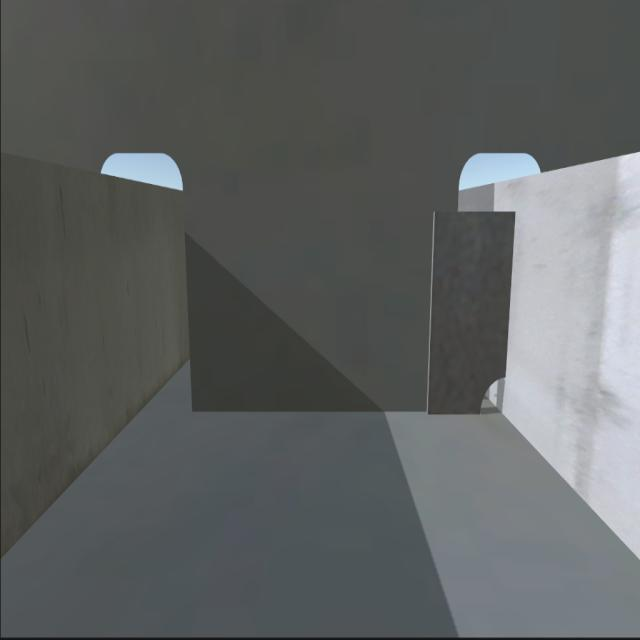fillet_hole: (478, 371, 508, 419)
fillet_yong_jeop_jang: (192, 404, 481, 420)
longi_yong_jeop_jang: (502, 211, 514, 378)
plate_CP01: (431, 206, 510, 412)
